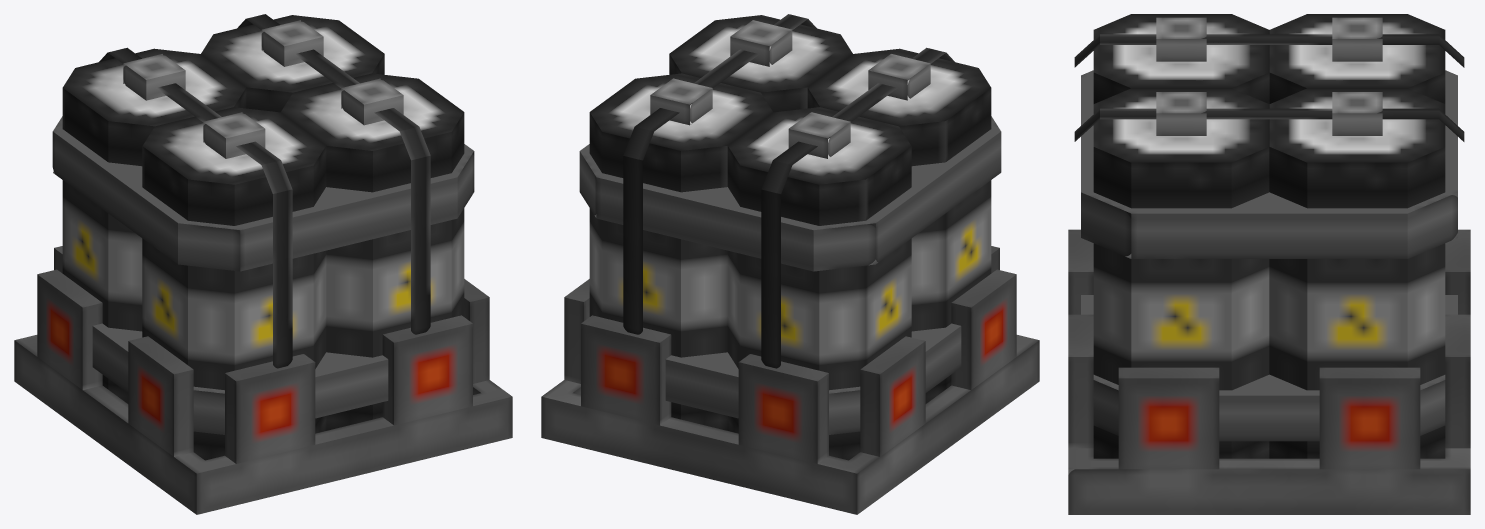
The model's file is socket_battery_lithium.obj.
3 renders of one model, left to right at view 1: azimuth 30°, elevation 25°; view 2: azimuth 150°, elevation 25°; view 3: azimuth 270°, elevation 25°, orthographic. The views are drawn at different scales.
Bounding box in the file's own units: 2 × 2 × 2.
